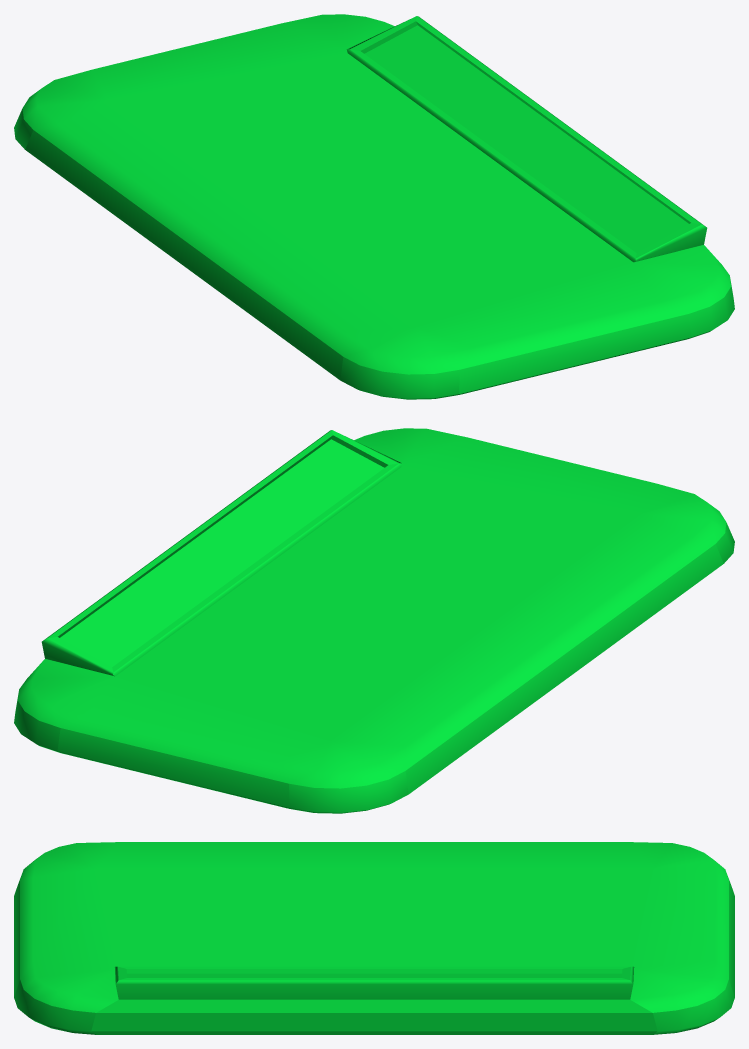
File: Code_Machine_07.fbx
3 renders of one model, top to bottom at view 1: azimuth 30°, elevation 25°; view 2: azimuth 150°, elevation 25°; view 3: azimuth 270°, elevation 25°, orthographic. The views are drawn at different scales.
Parts seen in each view (by area): view 1: Code_Machine_07; view 2: Code_Machine_07; view 3: Code_Machine_07.
Boxes of the visible parts, x1,y1,x2,y2 form: Code_Machine_07: (14,14,734,399); Code_Machine_07: (14,428,734,813); Code_Machine_07: (14,842,734,1034).
Size of the model in its own units: 16.76 by 2.41 by 30.32.
